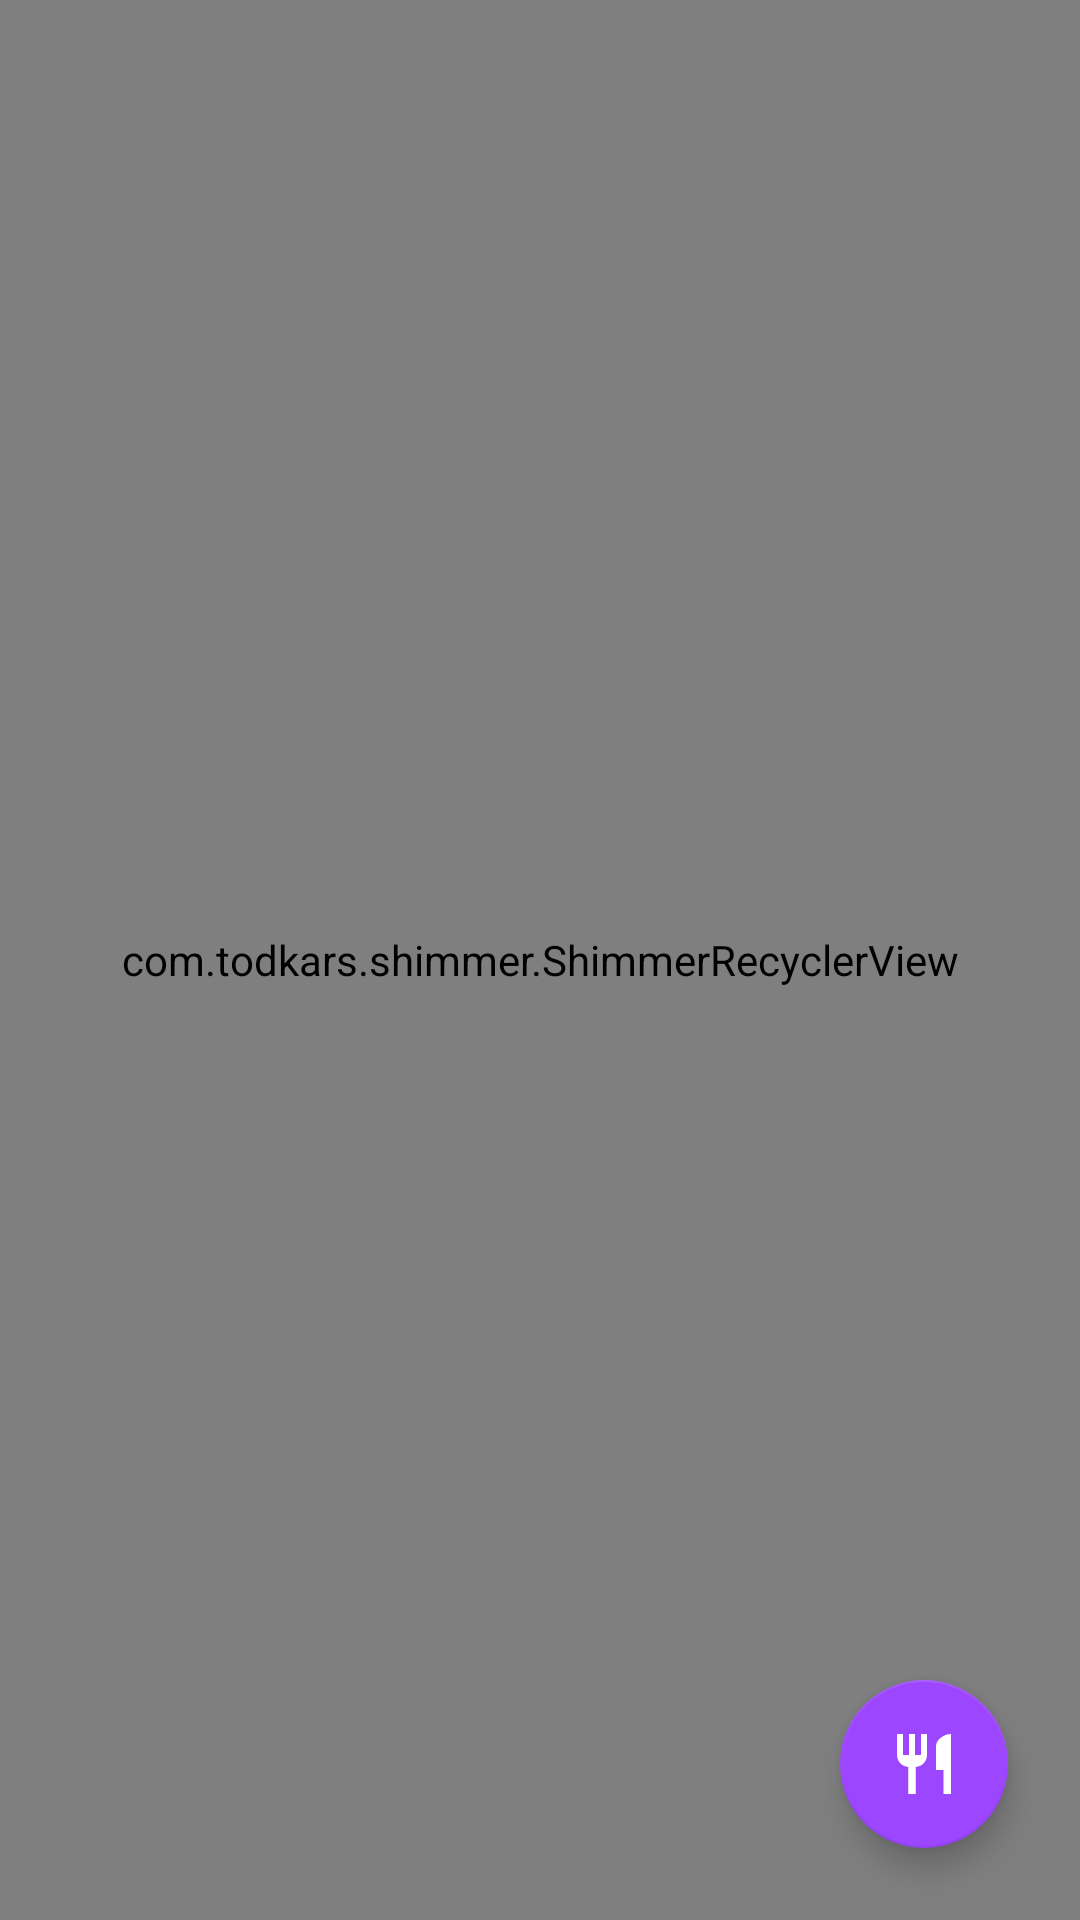

Locate icon controls on the screen. Image size 1080x1920, boxes as Rect(x1, y1, x2, y2).
restaurant: Rect(840, 1680, 1008, 1848)
